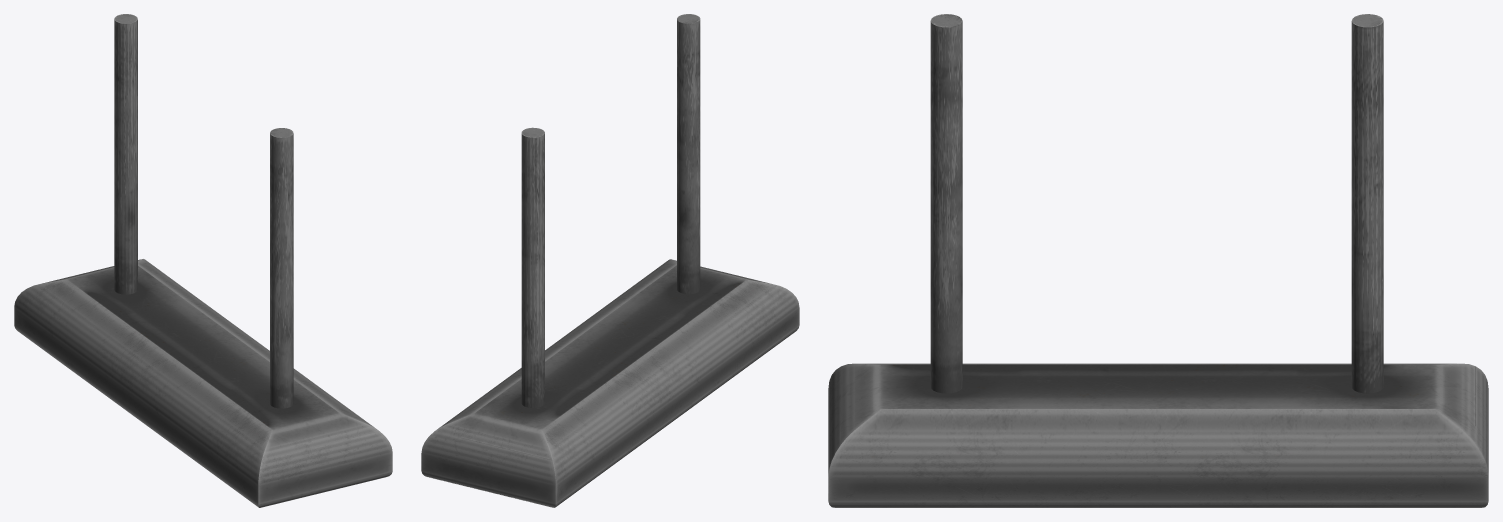
Rendered from sci-fi_overhead_lights.glb.
The picture shows the model from 3 angles, left to right: view 1: azimuth 30°, elevation 25°; view 2: azimuth 150°, elevation 25°; view 3: azimuth 270°, elevation 25°; orthographic projection. The views are drawn at different scales.
Visible parts, largest first — view 1: polySurface1, pCylinder2, pCylinder1; view 2: polySurface1, pCylinder1, pCylinder2; view 3: polySurface1, pCylinder1, pCylinder2.
Boxes of the visible parts, x1,y1,x2,y2 form: polySurface1: [14, 259, 392, 507]; pCylinder2: [114, 14, 137, 294]; pCylinder1: [270, 128, 293, 408]; polySurface1: [421, 259, 799, 507]; pCylinder1: [677, 14, 700, 294]; pCylinder2: [521, 127, 544, 407]; polySurface1: [828, 363, 1488, 507]; pCylinder1: [930, 14, 962, 393]; pCylinder2: [1351, 14, 1383, 393].
Bounding box in the file's own units: 1 × 2.35 × 3.14.
Materials: 1 (1 with a texture image).
